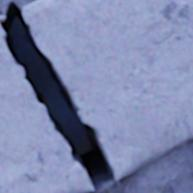broken_brick: (22, 0, 192, 179), (0, 25, 92, 192), (0, 15, 4, 21)
crack: (0, 1, 116, 191)
